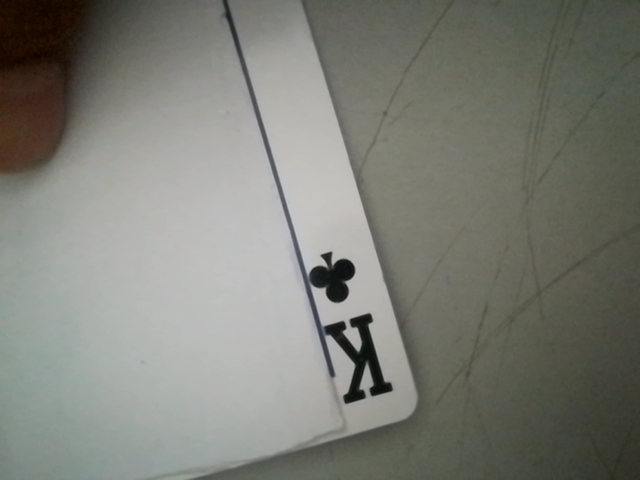mh k: (292, 240, 410, 420)
